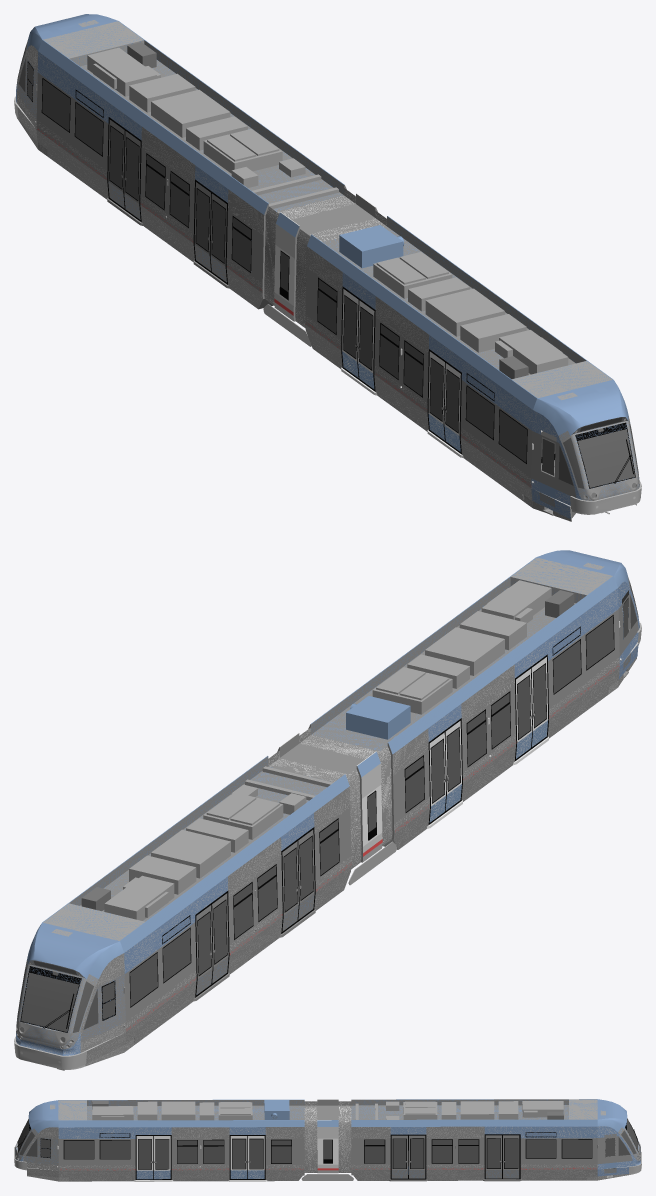
The model's file is VLT.glb.
3 views of the same model, one above another, from view 1: azimuth 30°, elevation 25°; view 2: azimuth 150°, elevation 25°; view 3: azimuth 270°, elevation 25° (orthographic). The views are drawn at different scales.
Parts seen in each view (by area): view 1: instance_10.005, instance_10.098, instance_10.001, instance_10.103, instance_10.011, instance_10.115, instance_10.100, instance_10.147, instance_10.104, instance_10.169, instance_10.093, instance_76 (+38 smaller); view 2: instance_10.103, instance_10.001, instance_10.005, instance_10.098, instance_10.011, instance_10.002, instance_10.147, instance_10.071, instance_55, instance_10.191, instance_10.104, instance_76 (+33 smaller); view 3: instance_10.099, instance_10, instance_10.109, instance_10.005, instance_10.049, instance_10.006, instance_10.017, instance_10.103, instance_10.179, instance_46, instance_51, instance_10.180 (+97 smaller).
Boxes of the visible parts, <box> form: instance_10.005: <box>80,40,344,211</box>; instance_10.098: <box>307,234,567,435</box>; instance_10.001: <box>26,33,268,214</box>; instance_10.103: <box>323,216,586,374</box>; instance_10.011: <box>17,107,262,308</box>; instance_10.115: <box>460,380,576,497</box>; instance_10.100: <box>537,379,628,435</box>; instance_10.147: <box>305,325,532,500</box>; instance_10.104: <box>429,335,581,505</box>; instance_10.169: <box>578,429,634,487</box>; instance_10.093: <box>43,21,144,66</box>; instance_76: <box>151,89,230,137</box>; instance_10.103: <box>311,577,575,751</box>; instance_10.001: <box>89,774,349,978</box>; instance_10.005: <box>69,756,333,921</box>; instance_10.098: <box>388,569,629,754</box>; instance_10.011: <box>85,865,351,1066</box>; instance_10.002: <box>27,922,119,979</box>; instance_10.147: <box>393,667,619,849</box>; instance_10.071: <box>21,972,78,1031</box>; instance_55: <box>425,627,504,675</box>; instance_10.191: <box>510,557,612,603</box>; instance_10.104: <box>514,581,639,677</box>; instance_76: <box>151,829,230,878</box>; instance_10.099: <box>34,1120,304,1133</box>; instance_10: <box>351,1119,621,1131</box>; instance_10.109: <box>27,1168,304,1181</box>; instance_10.005: <box>351,1099,568,1119</box>; instance_10.049: <box>351,1169,597,1180</box>; instance_10.006: <box>484,1126,640,1167</box>; instance_10.017: <box>520,1136,632,1164</box>; instance_10.103: <box>87,1100,304,1120</box>; instance_10.179: <box>58,1127,171,1138</box>; instance_46: <box>304,1101,317,1172</box>; instance_51: <box>338,1101,351,1172</box>; instance_10.180: <box>58,1139,135,1165</box>.
Bounding box in the file's own units: 0.0129 × 0.0152 × 0.1369.
